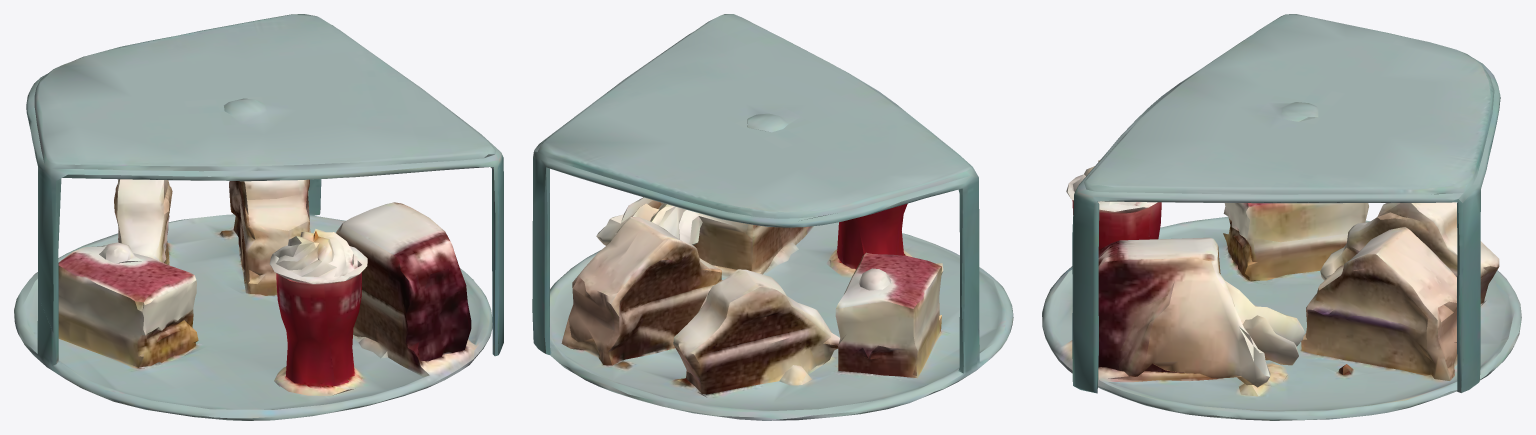
The model's file is showcase.glb.
The picture shows the model from 3 angles, left to right: view 1: azimuth 30°, elevation 25°; view 2: azimuth 150°, elevation 25°; view 3: azimuth 270°, elevation 25°; orthographic projection. The views are drawn at different scales.
Visible parts, largest first — view 1: showcase; view 2: showcase; view 3: showcase.
Part boxes in pixels (x1,y1,x2,y2): showcase: [14, 14, 503, 420]; showcase: [532, 14, 1013, 420]; showcase: [1042, 14, 1521, 420].
Size of the model in its own units: 2.09 by 1.2 by 2.09.
Materials: 1 (1 with a texture image).
